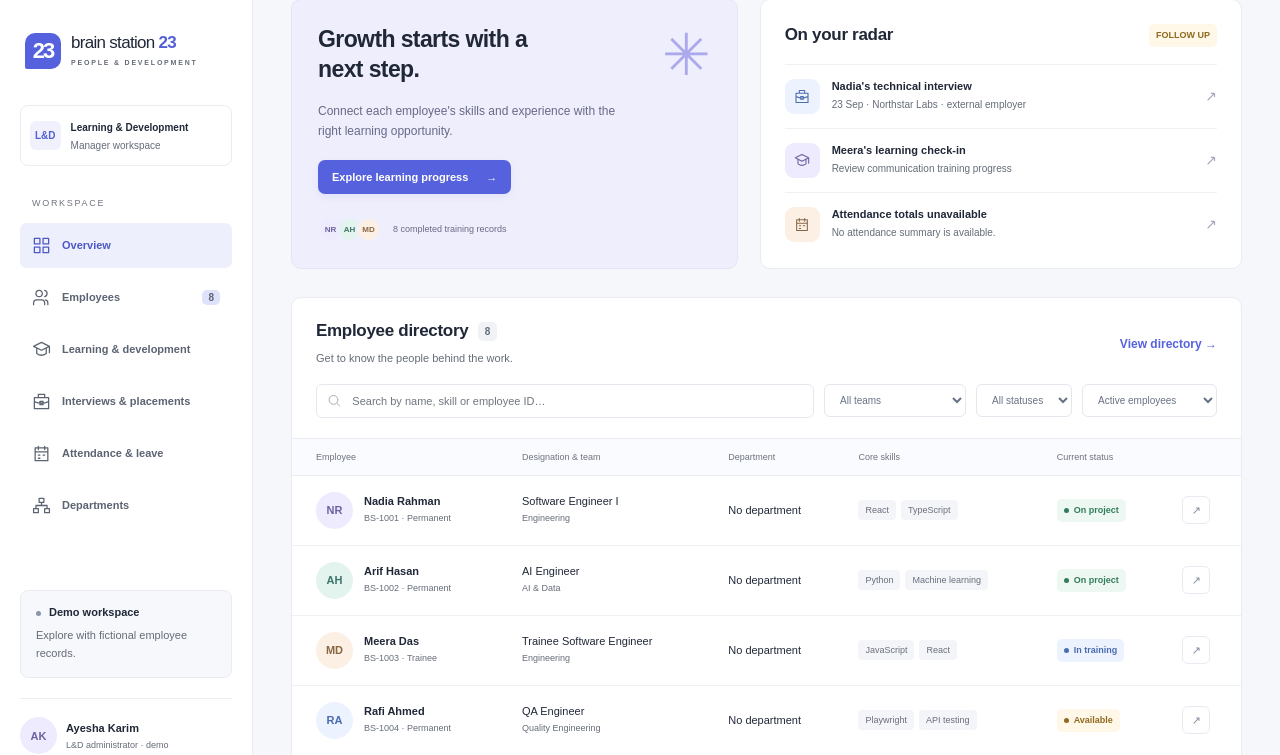
Test: Portal directory export › exports only the currently visible rows and reports the count
The width and height of the screenshot is (1280, 755).
(page scrolled)
Type "TypeScript" into the field named "Search employees".
click(576, 401); type("TypeScript")  # box [350,394,802,408]
(page scrolled)
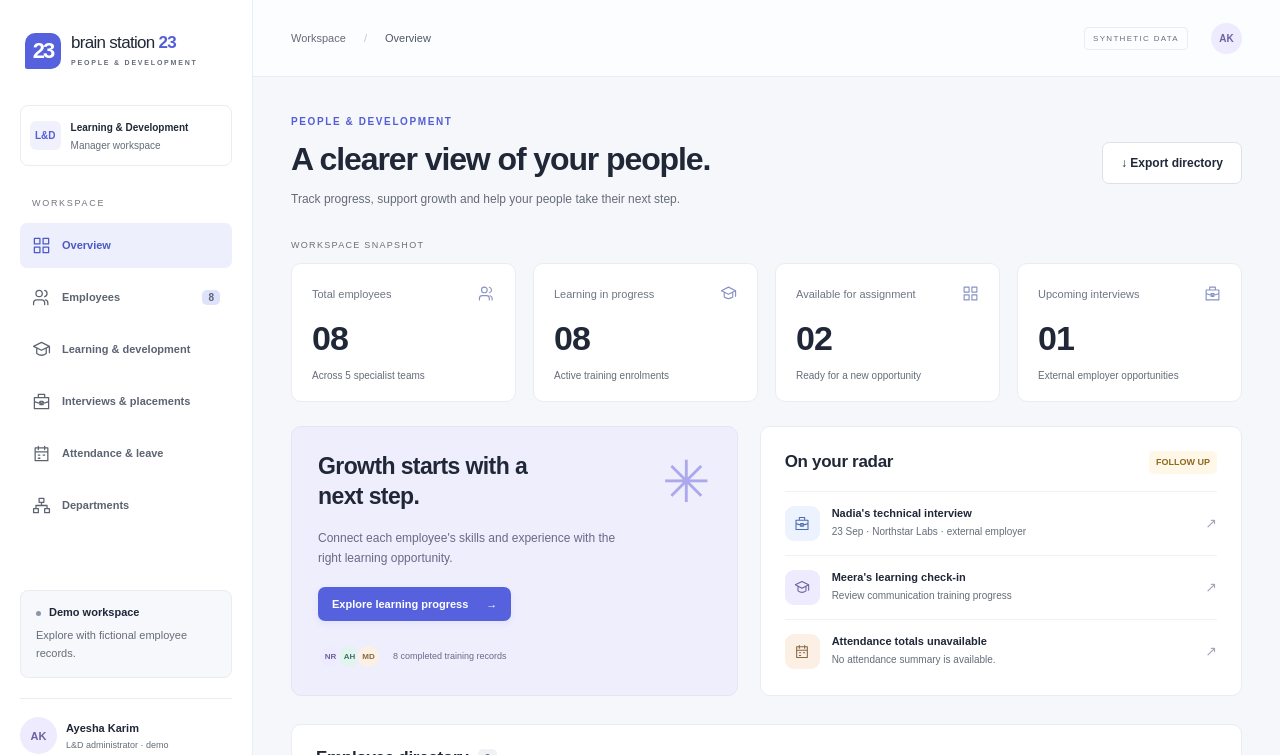
Click the button "↓ Export directory".
click(1172, 163)  # box [1102,142,1242,184]
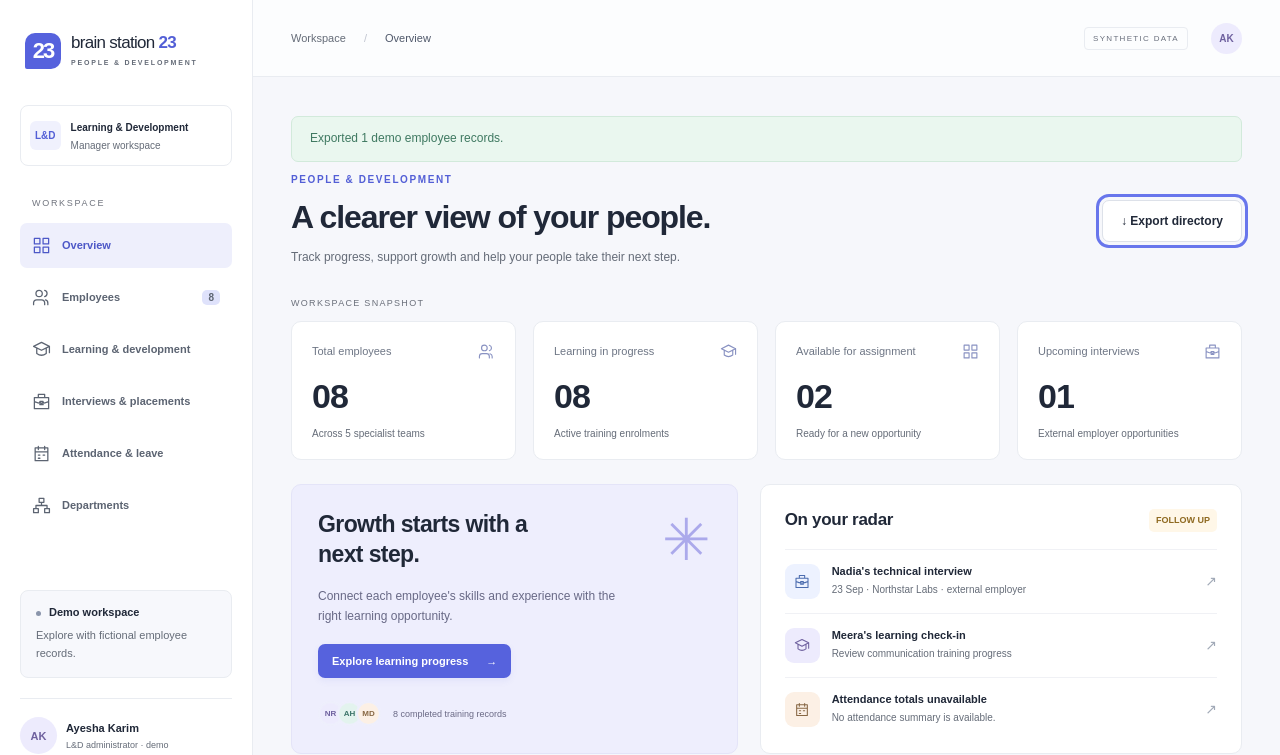
Result: the message reads "Exported 1 demo employee records." at [310,131,503,145]
